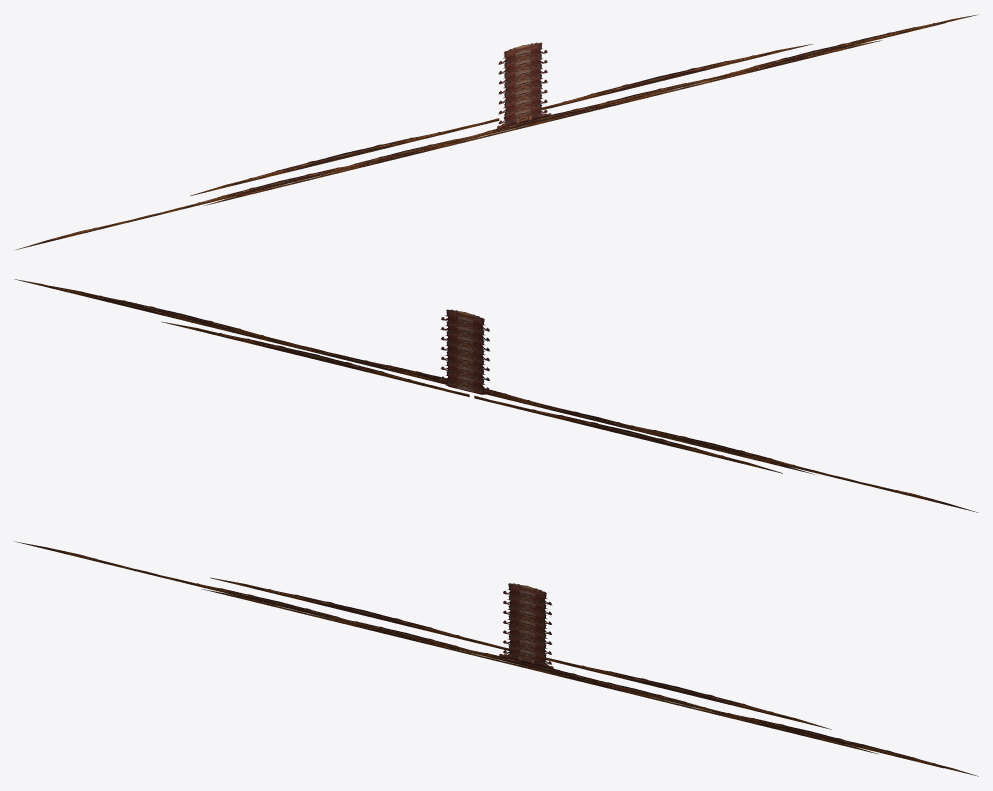
Rendered from Tower_Fire.fbx.
3 renders of one model, top to bottom at view 1: azimuth 30°, elevation 25°; view 2: azimuth 150°, elevation 25°; view 3: azimuth 330°, elevation 25°, orthographic.
Visible parts, largest first — view 1: tower_dark_base, tower_dark, tower_dark_base03, tower_dark_base02; view 2: tower_dark_base, tower_dark, tower_dark_base02; view 3: tower_dark_base, tower_dark, tower_dark_base03, tower_dark_base02.
Boxes of the visible parts, left/top/right/bottom form: tower_dark_base: left=16, top=22, right=945, bottom=249; tower_dark: left=498, top=42, right=547, bottom=124; tower_dark_base03: left=204, top=40, right=881, bottom=205; tower_dark_base02: left=351, top=14, right=978, bottom=165; tower_dark_base: left=51, top=286, right=978, bottom=512; tower_dark: left=440, top=309, right=489, bottom=394; tower_dark_base02: left=14, top=279, right=814, bottom=474; tower_dark_base: left=14, top=541, right=943, bottom=768; tower_dark: left=503, top=583, right=552, bottom=664; tower_dark_base03: left=201, top=589, right=878, bottom=754; tower_dark_base02: left=351, top=620, right=978, bottom=776.
Bounding box in the file's own units: 150 × 11.82 × 2.93.
Materials: 1 (1 with a texture image).
